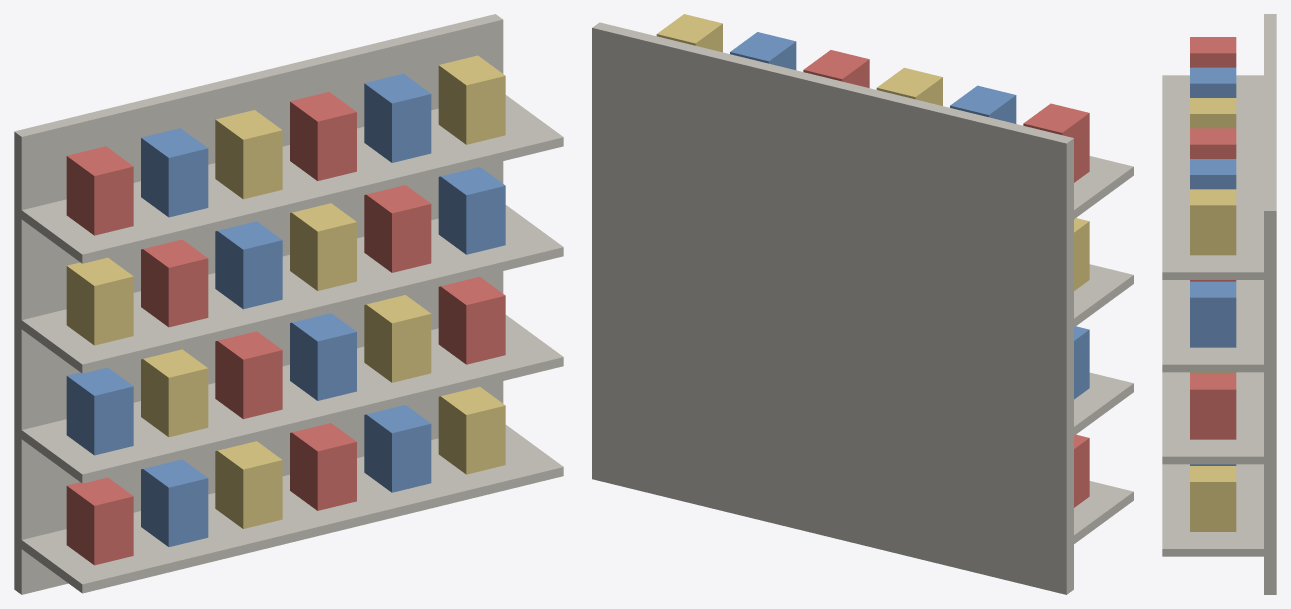
Rendered from shop_shelf.glb.
3 renders of one model, left to right at view 1: azimuth 30°, elevation 25°; view 2: azimuth 150°, elevation 25°; view 3: azimuth 270°, elevation 25°, orthographic. The views are drawn at different scales.
Visible parts, largest first — view 1: BackBoard, Tier_0, Tier_1, Tier_2, Tier_3, Box_3_0, Box_3_1, Box_3_5, Box_3_2, Box_3_4, Box_1_0, Box_0_0 (+17 smaller); view 2: BackBoard, Box_3_0, Tier_1, Tier_2, Tier_0, Tier_3, Box_3_4, Box_3_1, Box_3_3, Box_3_5, Box_3_2, Box_0_0 (+2 smaller); view 3: Tier_3, BackBoard, Tier_2, Tier_1, Tier_0, Box_1_5, Box_2_5, Box_3_5, Box_0_5, Box_3_0, Box_3_3, Box_3_1 (+2 smaller).
Boxes of the visible parts, x1,y1,x2,y2 form: BackBoard: (14, 14, 503, 594); Tier_0: (16, 425, 563, 593); Tier_1: (16, 315, 563, 483); Tier_2: (17, 205, 563, 373); Tier_3: (18, 95, 563, 263); Box_3_0: (66, 146, 133, 235); Box_3_1: (141, 128, 208, 217); Box_3_5: (438, 55, 505, 144); Box_3_2: (215, 110, 282, 199); Box_3_4: (364, 73, 431, 162); Box_1_0: (66, 367, 133, 455); Box_0_0: (66, 477, 133, 565); BackBoard: (592, 22, 1073, 594); Box_3_0: (1023, 103, 1089, 182); Tier_1: (1069, 372, 1133, 439); Tier_2: (1069, 264, 1133, 330); Tier_0: (1069, 481, 1133, 547); Tier_3: (1069, 156, 1133, 222); Box_3_4: (730, 32, 796, 69); Box_3_1: (950, 85, 1016, 123); Box_3_3: (803, 50, 869, 87); Box_3_5: (656, 14, 722, 52); Box_3_2: (876, 67, 942, 105); Box_0_0: (1074, 434, 1089, 507); Tier_3: (1162, 75, 1263, 279); BackBoard: (1264, 14, 1276, 594); Tier_2: (1162, 280, 1272, 372); Tier_1: (1162, 372, 1267, 464); Tier_0: (1162, 464, 1267, 556); Box_1_5: (1190, 373, 1236, 439); Box_2_5: (1190, 281, 1236, 347); Box_3_5: (1190, 189, 1236, 255); Box_0_5: (1190, 466, 1236, 531); Box_3_0: (1190, 37, 1236, 67); Box_3_3: (1190, 128, 1236, 158); Box_3_1: (1190, 67, 1236, 97).
Size of the model in its own units: 2.2 by 2 by 0.54.
